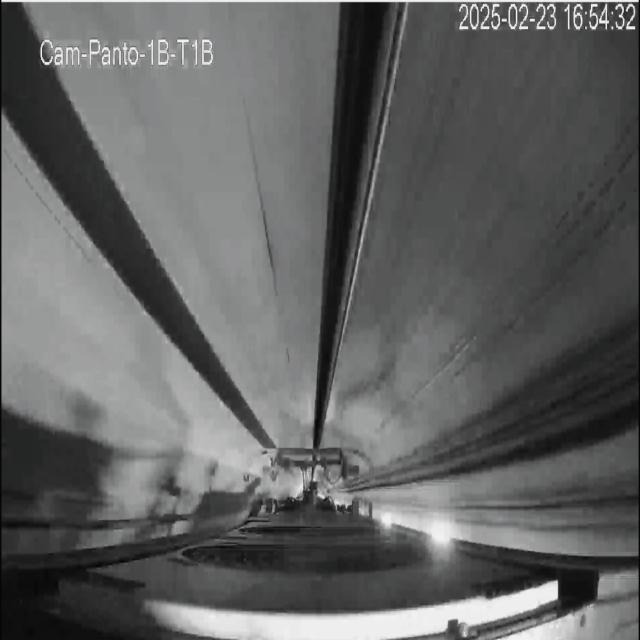Camera Stamp: (34, 29, 220, 74)
Date Stamp: (457, 3, 636, 33)
No - Spark: (196, 429, 294, 500), (417, 511, 461, 551)
